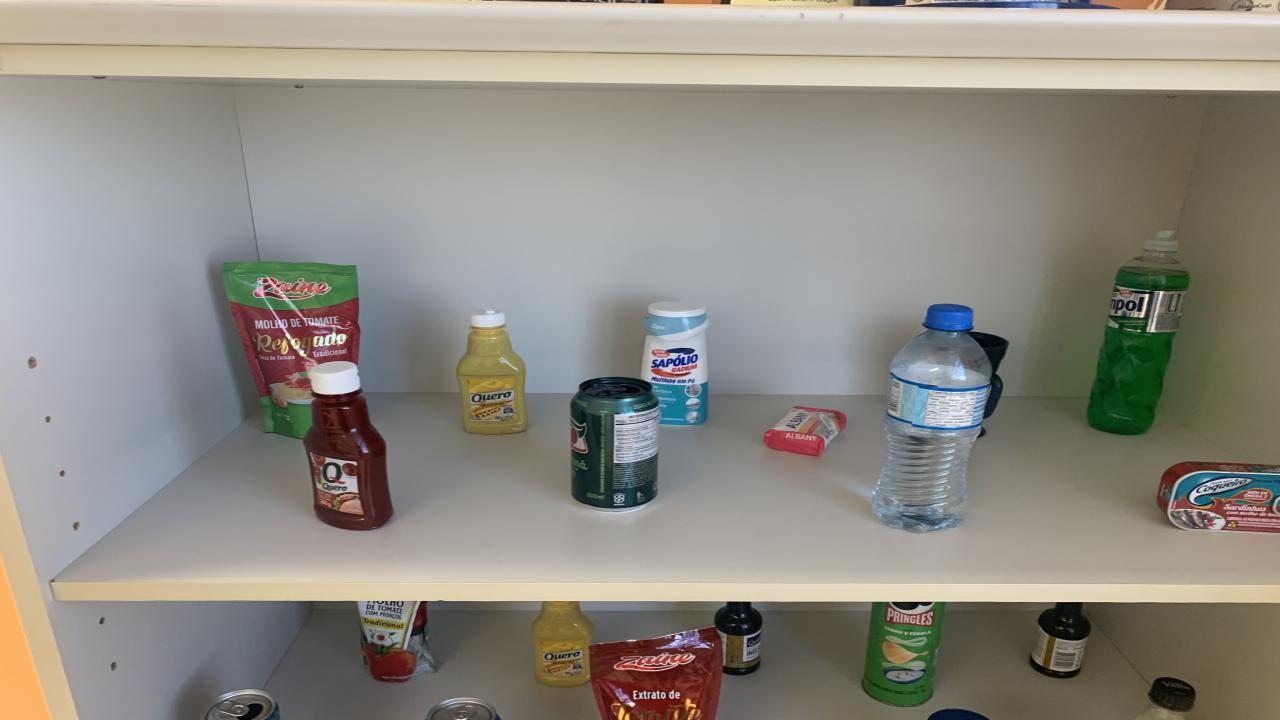Cleaner-Cleanup_Items: (640, 302, 708, 426)
Detergent-Cleanup_Items: (872, 304, 992, 532), (1088, 231, 1190, 435)
English_Sauce-Pantry_Items: (1030, 602, 1090, 679), (715, 602, 762, 675)
Guarana_Can-Drinks: (570, 377, 660, 512)
Ketchup-Pantry_Items: (305, 362, 392, 531)
Mayonnaise-Pantry_Items: (928, 709, 988, 720)
Mustard-Pantry_Items: (458, 309, 528, 433), (530, 602, 592, 686)
Pringles-Snacks: (862, 602, 945, 705)
Soap-Cleanup_Items: (762, 407, 845, 456), (252, 278, 330, 300)
Soda-Drinks: (1138, 677, 1195, 720)
Tea-Drinks: (202, 690, 280, 720)
Tomato_Sauce-Pantry_Items: (222, 262, 360, 437), (590, 626, 722, 720), (358, 600, 435, 682)
Tonic-Drinks: (425, 698, 500, 720)
Tuna_Can-Pantry_Items: (1158, 461, 1280, 532)
